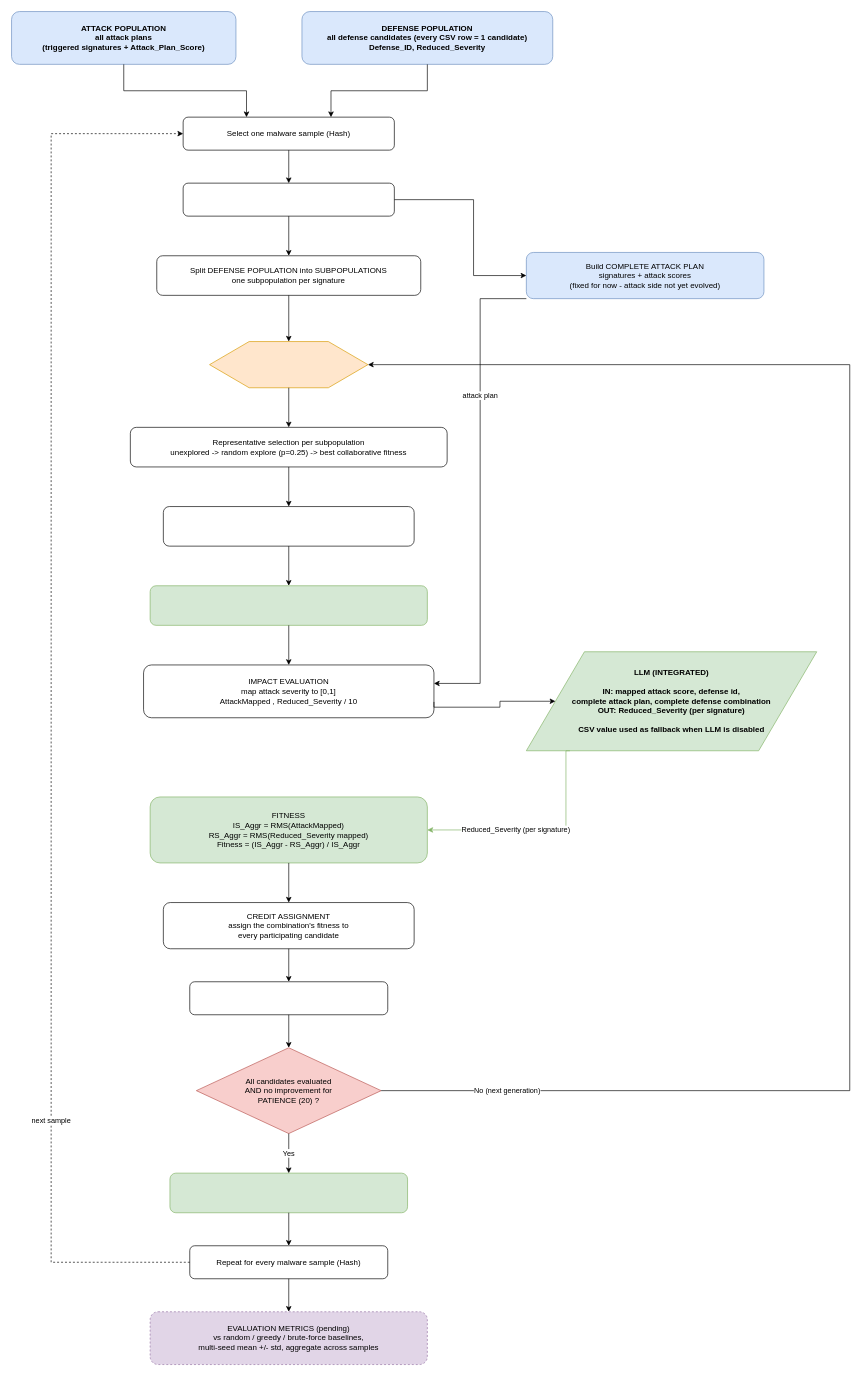
Image size: 867x1376. Some labels were removed from this diagram. Here are the shapes that lost their labels. From the top down, the box of each, then its label:
(182, 182, 394, 216): Identify triggered signatures for that sample
(209, 341, 368, 388): GENERATION LOOP (max 100)
(163, 506, 414, 546): Mutation (p=0.20) swap representative within the same subpopulation
(149, 585, 427, 625): Construct COMPLETE DEFENSE COMBINATION one representative per signature
(189, 981, 388, 1015): Update global best combination
(169, 1172, 408, 1213): OUTPUT optimal defense strategy + convergence history
